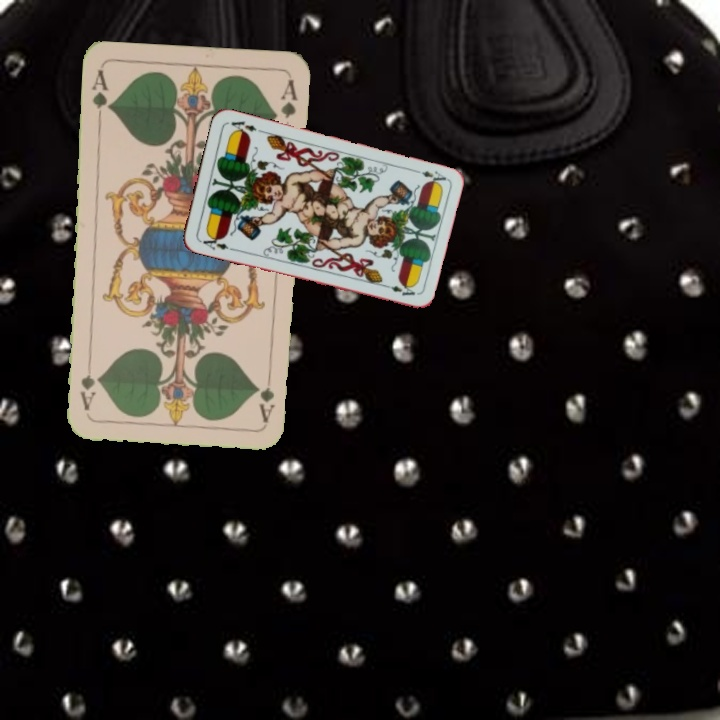EA: (195, 231, 235, 253), (409, 166, 449, 188)
GA: (88, 65, 114, 125), (256, 365, 277, 424)
